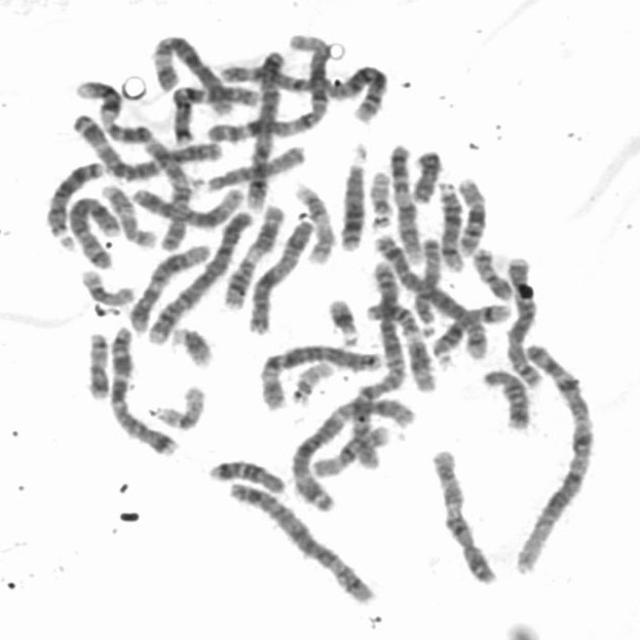A1: (508, 334, 599, 578), (204, 29, 337, 145)
A2: (346, 254, 406, 472), (212, 60, 392, 124)
A3: (285, 390, 420, 514), (66, 110, 226, 182)
B4: (140, 205, 256, 346), (241, 41, 289, 213)
B5: (222, 475, 379, 607), (368, 230, 492, 361)
C10: (426, 444, 502, 587), (137, 134, 192, 252)
C11: (218, 199, 288, 311), (362, 297, 439, 393)
C12: (123, 238, 213, 336), (128, 181, 248, 228)
C6: (256, 339, 384, 411), (145, 28, 239, 118)
C7: (103, 321, 181, 457), (169, 81, 263, 144)
C8: (502, 250, 546, 392), (64, 192, 122, 270)
C9: (69, 74, 155, 145), (384, 139, 424, 264)
D13: (40, 156, 107, 244), (336, 139, 371, 253)
D14: (424, 296, 514, 364), (432, 176, 468, 273)
D15: (198, 140, 308, 192), (411, 233, 444, 330)
E16: (308, 420, 392, 479), (452, 170, 491, 258)
E17: (96, 180, 159, 249), (290, 180, 338, 266)
E18: (478, 364, 533, 432), (205, 454, 288, 495)
F19: (151, 380, 209, 431), (75, 264, 137, 307)
F20: (467, 243, 515, 302), (81, 327, 113, 401)
G21: (167, 321, 217, 369), (322, 292, 362, 348)
G22: (286, 357, 336, 406), (364, 164, 396, 230)
X: (244, 215, 318, 336)
Y: (407, 145, 445, 204)
